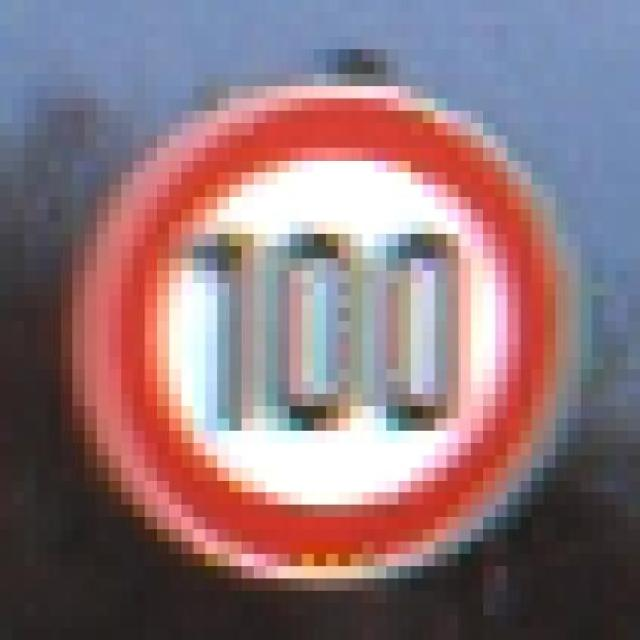forb_speed_over_100: (89, 93, 560, 575)
